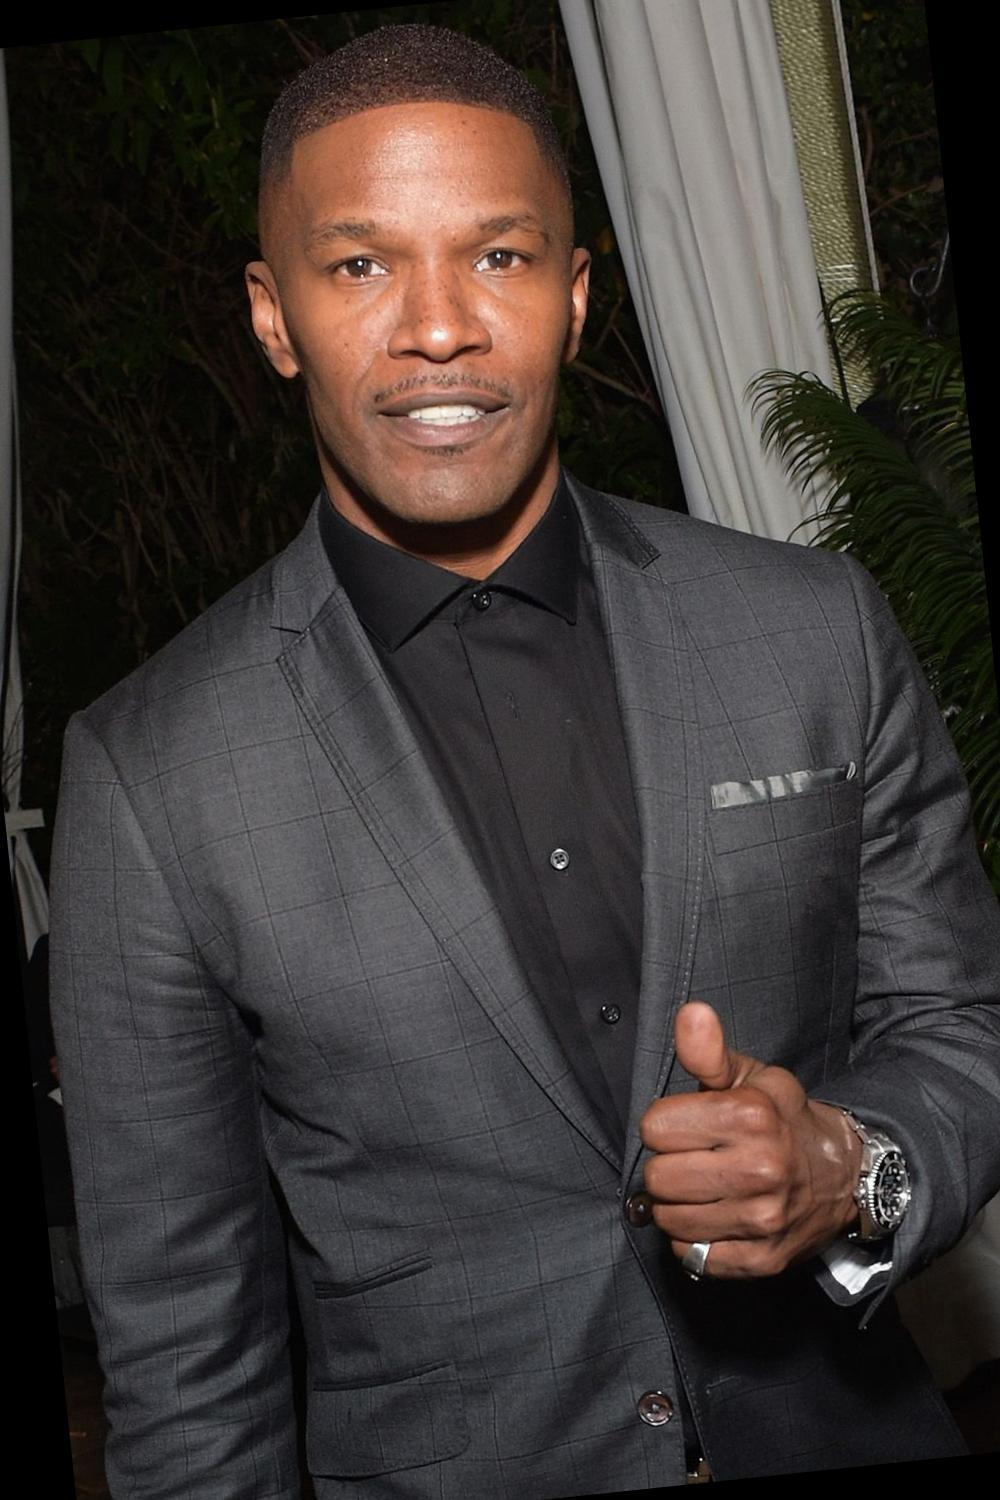Sober: (295, 104, 566, 504)
